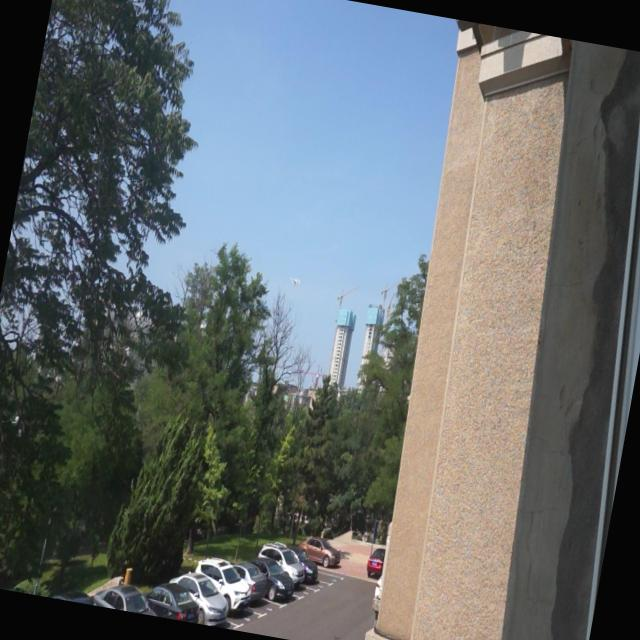drone: (288, 274, 302, 288)
